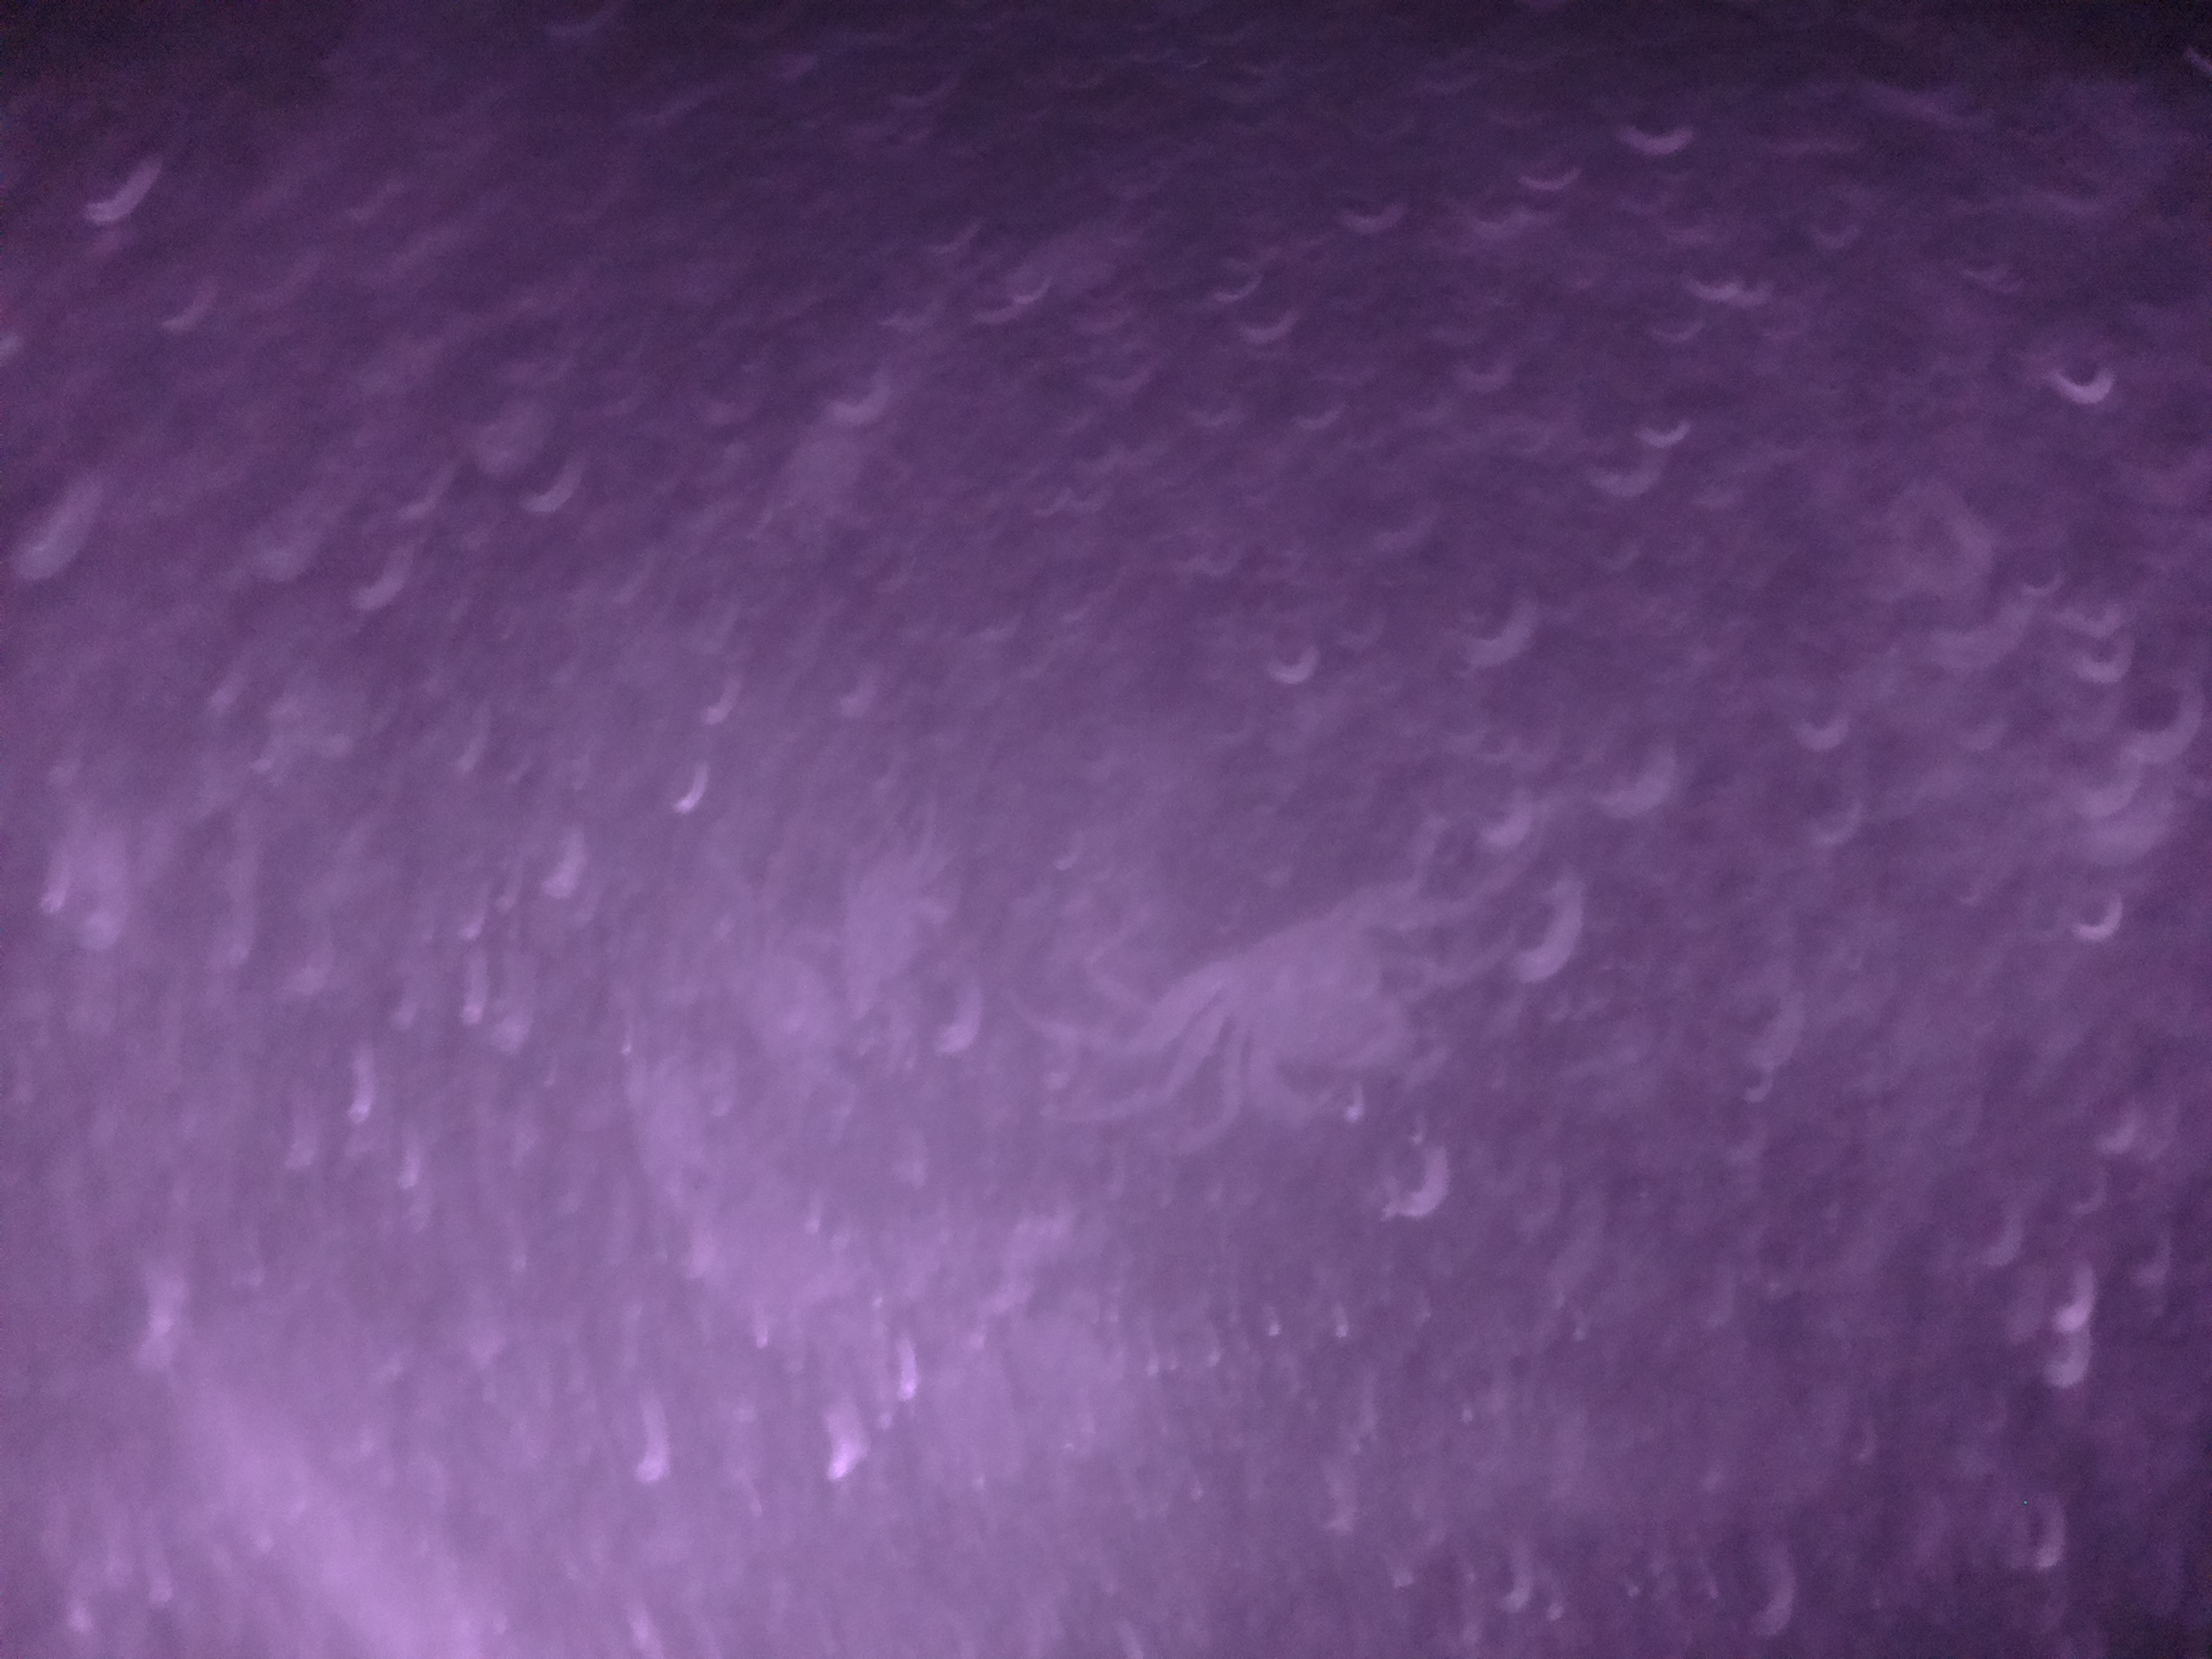Crab: (1118, 843, 1498, 1159)
